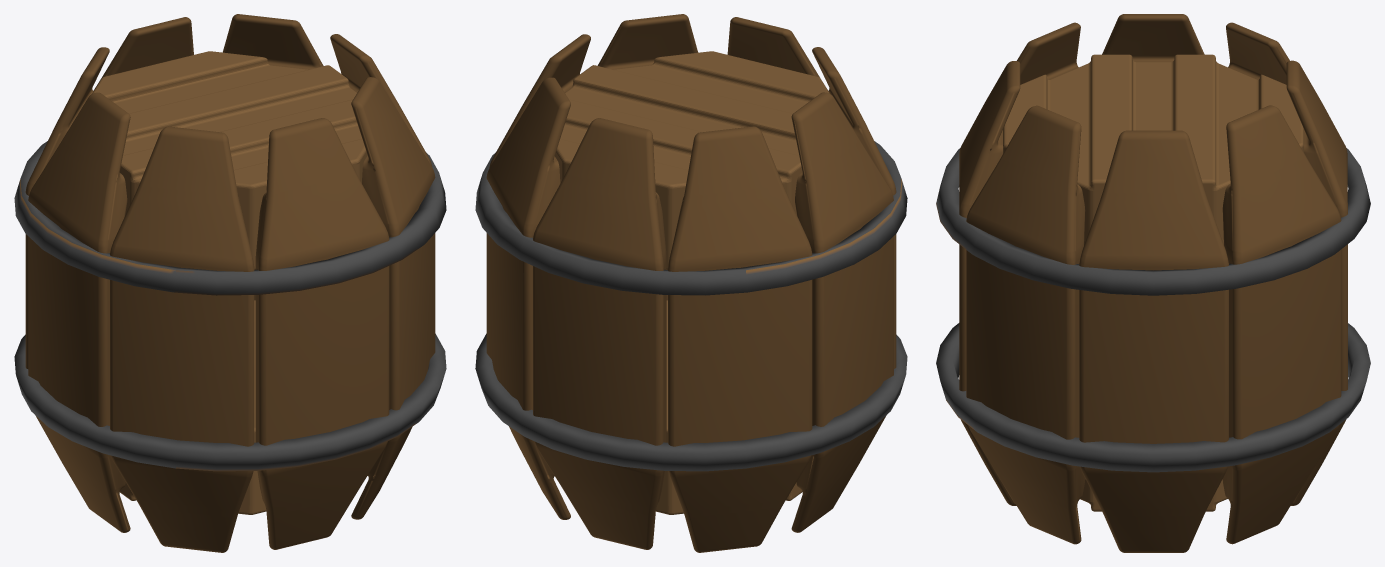
The model's file is prop-fıçı.fbx.
The picture shows the model from 3 angles, left to right: view 1: azimuth 30°, elevation 25°; view 2: azimuth 150°, elevation 25°; view 3: azimuth 270°, elevation 25°; orthographic projection.
Parts seen in each view (by area): view 1: Cylinder.002; view 2: Cylinder.002; view 3: Cylinder.002.
Boxes of the visible parts, x1=… form: Cylinder.002: x1=14, y1=14, x2=446, y2=552; Cylinder.002: x1=475, y1=14, x2=907, y2=552; Cylinder.002: x1=936, y1=14, x2=1370, y2=552.
Size of the model in its own units: 462 by 493 by 462.
